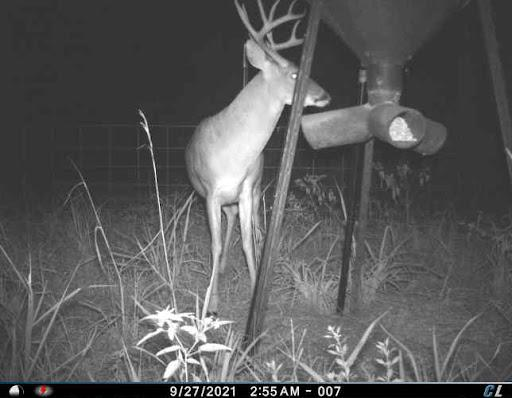Deer: (178, 0, 332, 325)
